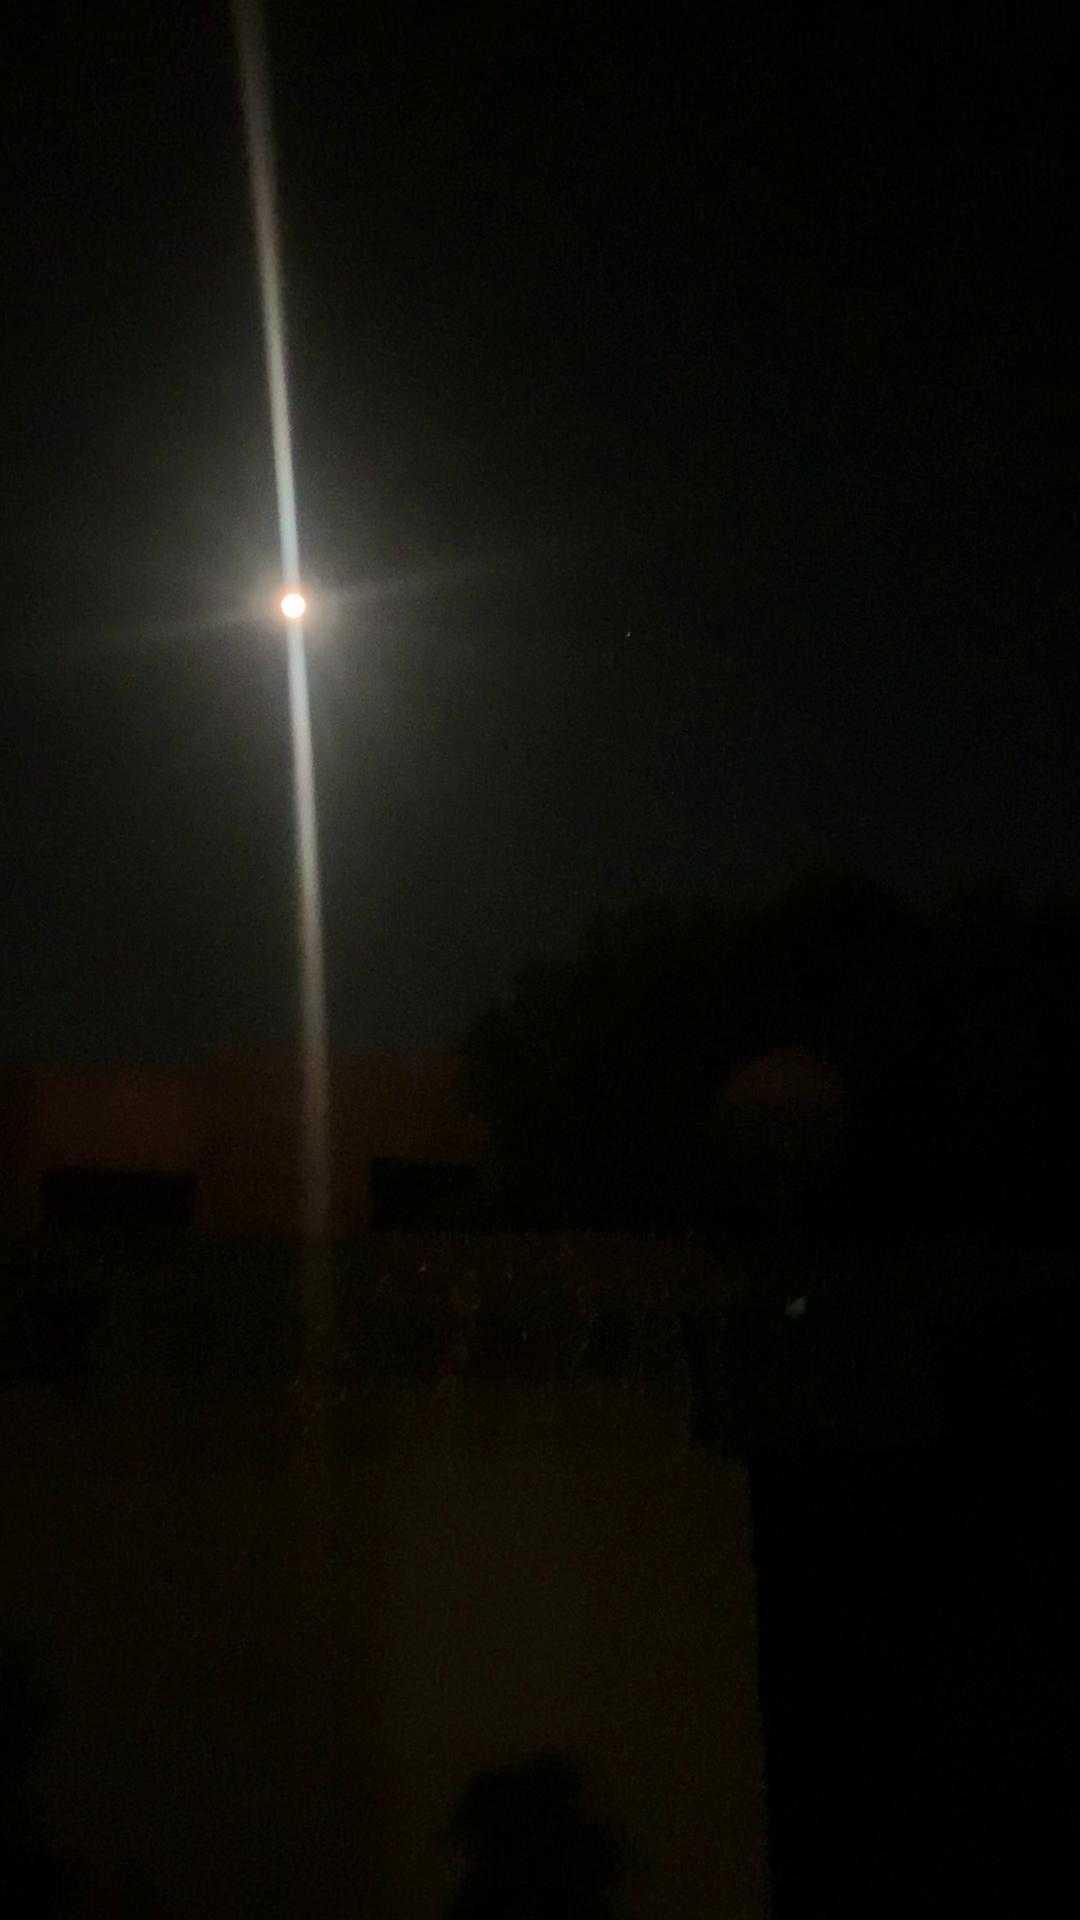moon: (264, 562, 339, 641)
